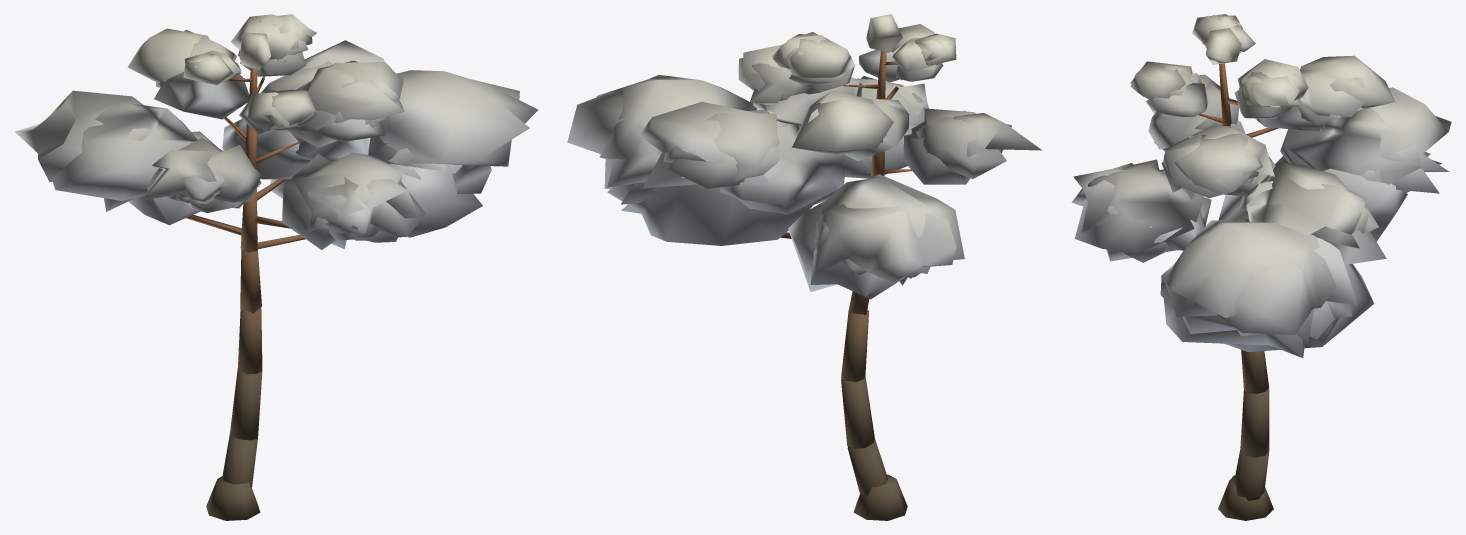
The picture shows the model from 3 angles, left to right: view 1: azimuth 30°, elevation 25°; view 2: azimuth 150°, elevation 25°; view 3: azimuth 270°, elevation 25°; orthographic projection.
Parts seen in each view (by area): view 1: crown, trunk1, trunk2; view 2: crown, trunk1, trunk2; view 3: crown, trunk1, trunk2.
Boxes of the visible parts, bbox=[...] form: crown: bbox=[14, 14, 538, 249]; trunk1: bbox=[206, 308, 262, 520]; trunk2: bbox=[186, 67, 305, 313]; crown: bbox=[567, 14, 1042, 299]; trunk1: bbox=[841, 310, 907, 520]; trunk2: bbox=[780, 51, 911, 314]; crown: bbox=[1071, 14, 1451, 357]; trunk1: bbox=[1218, 350, 1273, 520]; trunk2: bbox=[1199, 63, 1278, 137].
Size of the model in its own units: 14.85 by 15.95 by 11.34.
